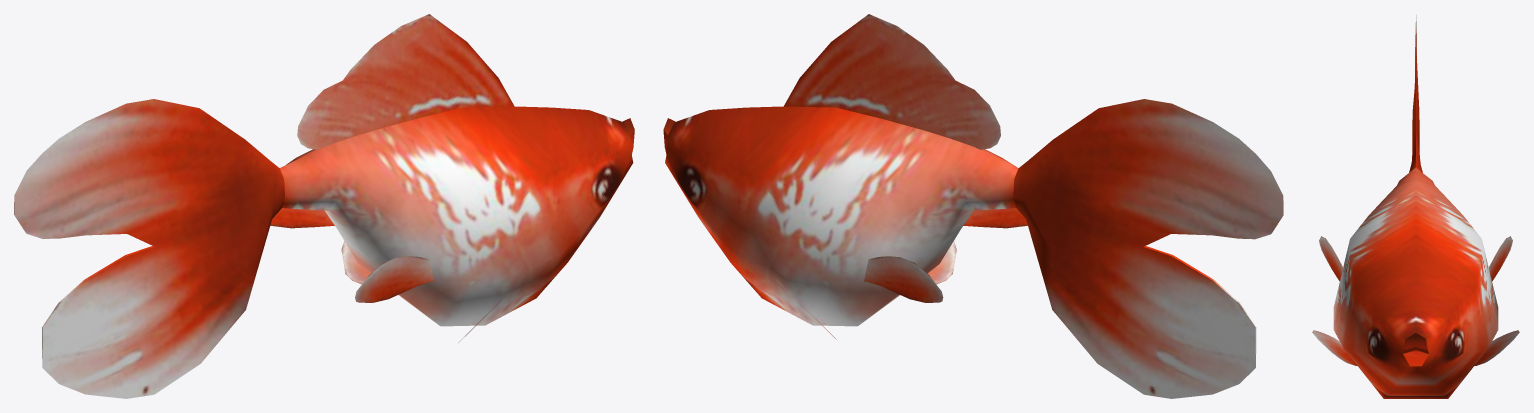
File: fish.dae
3 renders of one model, left to right at view 1: azimuth 30°, elevation 25°; view 2: azimuth 150°, elevation 25°; view 3: azimuth 270°, elevation 25°, orthographic. The views are drawn at different scales.
Visible parts, largest first — view 1: Group4, Group3, Group5, Group7, Group2, Group8; view 2: Group4, Group3, Group5, Group2, Group7, Group6; view 3: Group3, Group4, Group6, Group8, Group2, Group7.
Part boxes in pixels (x1,y1,x2,y2): Group4: (14, 99, 284, 398); Group3: (279, 106, 634, 326); Group5: (297, 14, 514, 149); Group7: (355, 256, 434, 302); Group2: (270, 208, 334, 228); Group8: (341, 241, 370, 284); Group4: (1013, 99, 1283, 398); Group3: (663, 106, 1018, 326); Group5: (783, 14, 1000, 149); Group2: (864, 256, 943, 302); Group7: (963, 208, 1027, 228); Group6: (927, 241, 956, 284); Group3: (1333, 167, 1498, 398); Group4: (1409, 15, 1422, 172); Group6: (1312, 330, 1357, 365); Group8: (1474, 330, 1519, 365); Group2: (1489, 236, 1512, 281); Group7: (1319, 236, 1342, 281).
Bounding box in the file's own units: 386 × 141 × 188.
2 materials, 2 textured.
